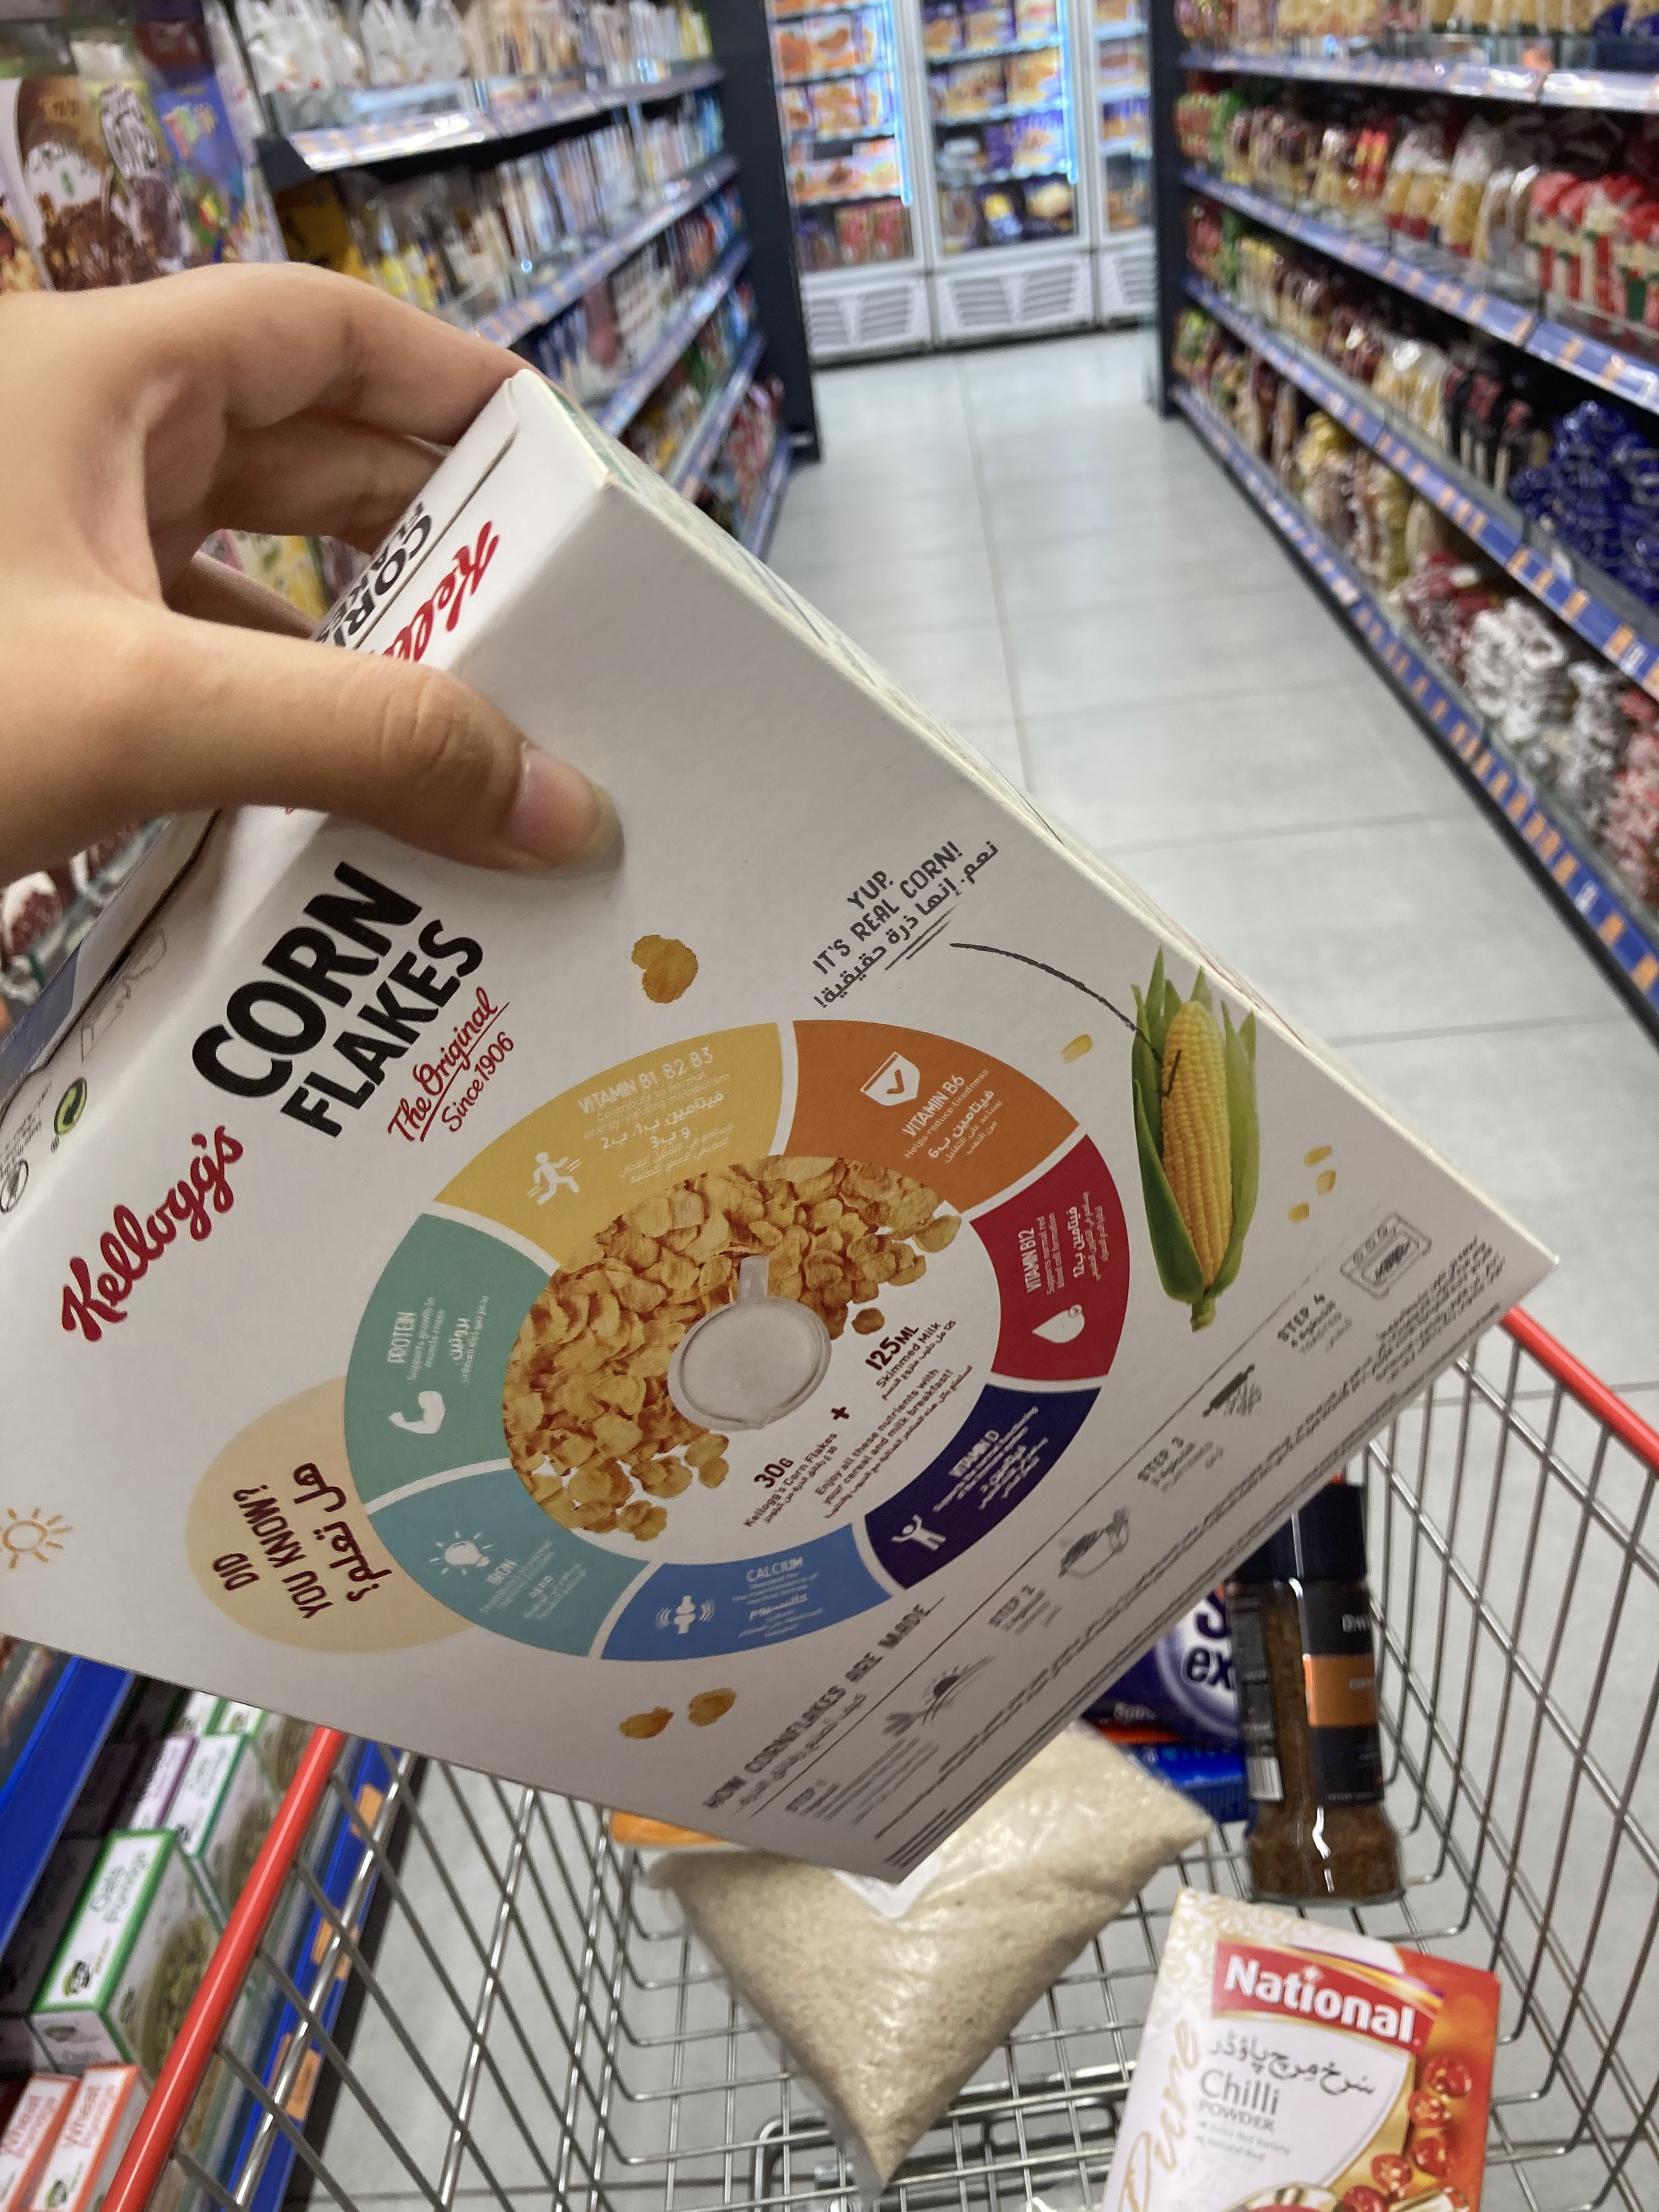Kellogg's Corn Flakes: (12, 369, 1558, 1888)
